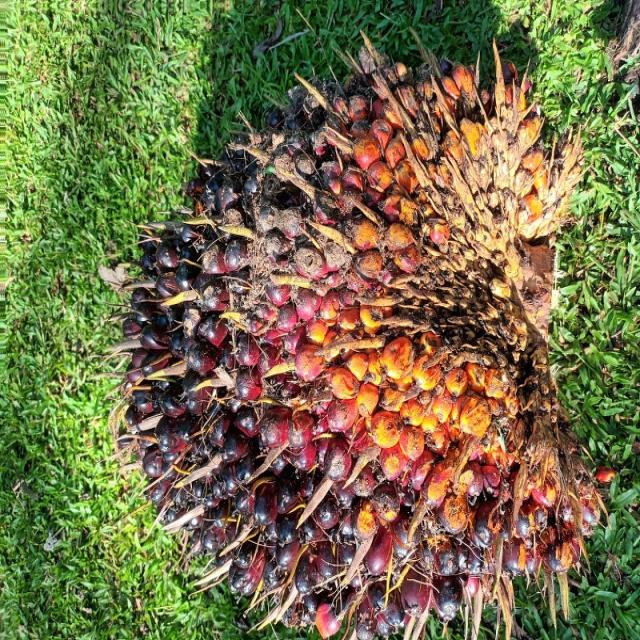fraksi 1: (0, 77, 456, 640)
